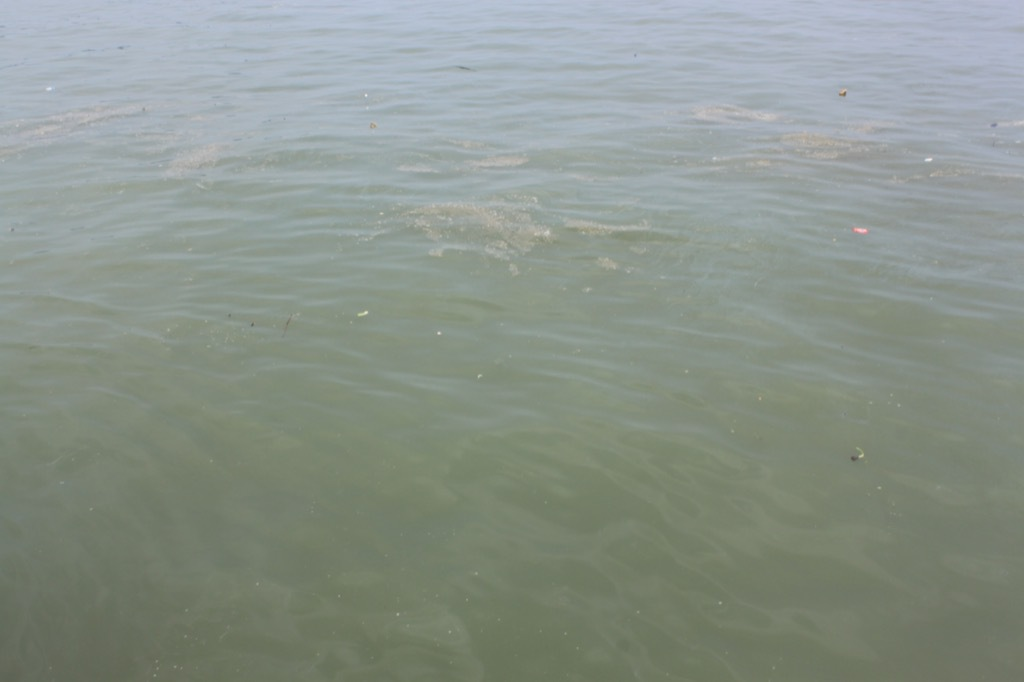organic: (71, 39, 133, 57), (450, 56, 486, 83), (276, 308, 302, 343), (845, 439, 871, 468), (983, 115, 1004, 135), (241, 318, 260, 331), (224, 308, 235, 323)
plastic: (841, 213, 877, 249), (830, 75, 859, 105), (362, 117, 387, 137), (39, 80, 57, 94)
